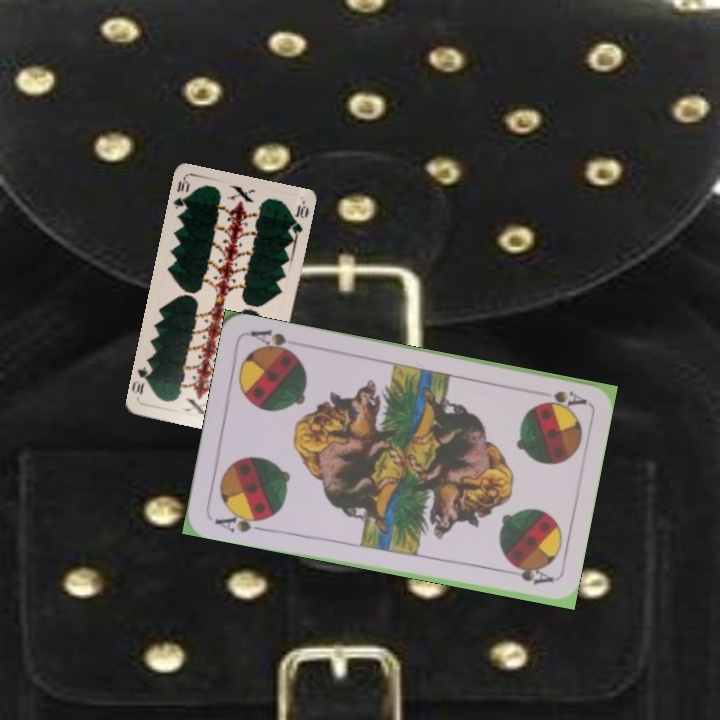G10: (169, 176, 192, 217)
SA: (210, 507, 270, 535), (535, 386, 589, 410)
